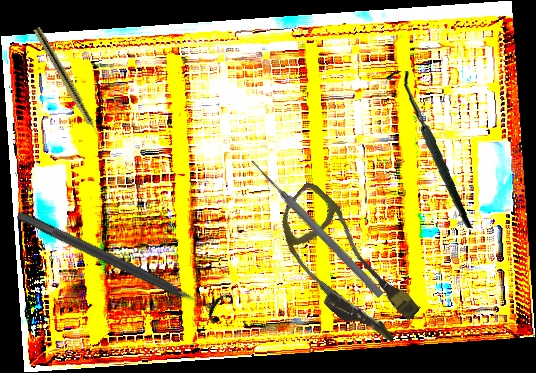Cannula: (253, 179, 436, 354)
Fixation Ring: (11, 198, 232, 328)
Handpiece: (31, 26, 107, 146)
Hook Surgical: (374, 69, 484, 229)
Pusher: (247, 156, 386, 300)
